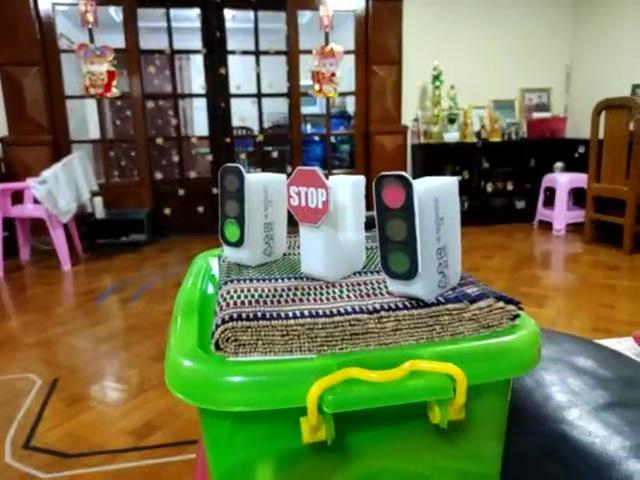Green Traffic Light: (215, 160, 249, 248)
Red Traffic Light: (371, 171, 423, 283)
Stop Sign: (283, 166, 332, 229)
